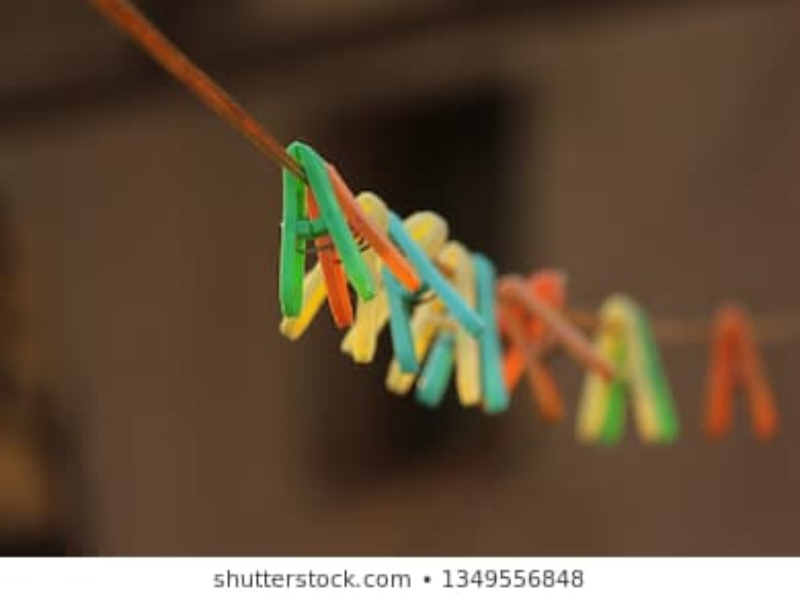plastic-peg: (300, 161, 425, 329), (266, 135, 373, 323), (485, 273, 625, 416), (366, 204, 481, 371), (581, 283, 686, 461), (709, 298, 784, 442)
